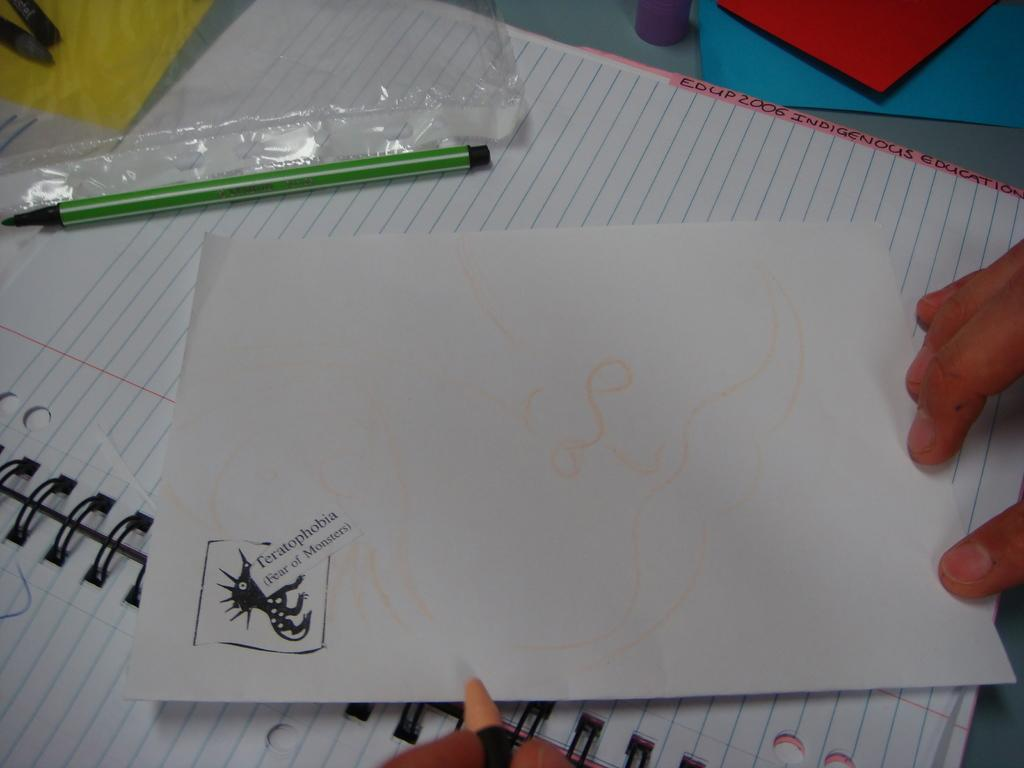pen: (0, 142, 489, 223)
